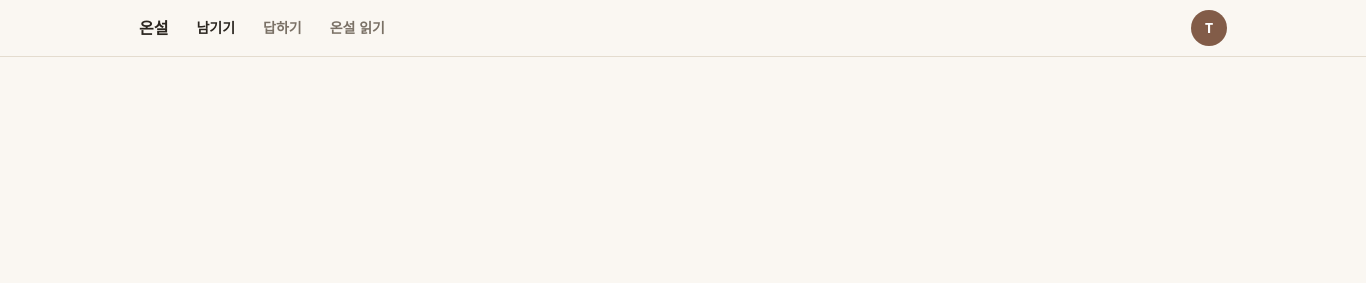
Test case: ServiceNav › opens the profile menu with the full email, account links, and logout
This screenshot has width=1366, height=283.
Click the button named "프로필 메뉴" at (1209, 28), box [1191, 10, 1227, 46]
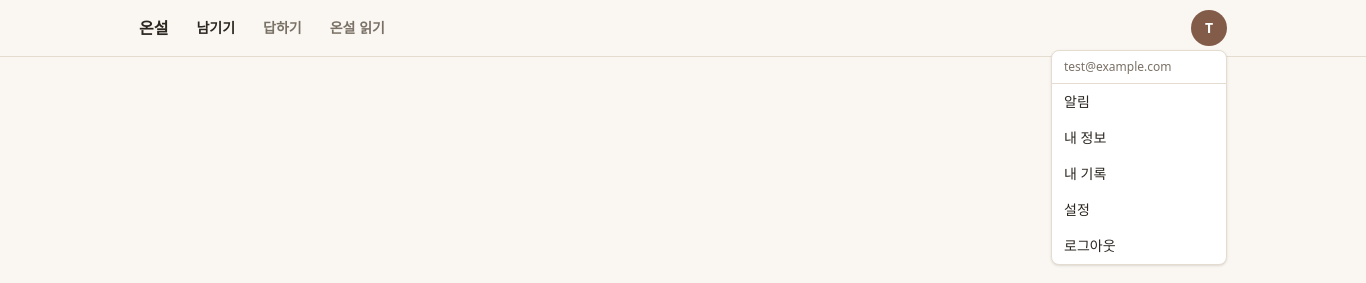
Now the text "test@example.com" is shown, box [1052, 51, 1226, 84]
Now the button "로그아웃" is shown, box [1052, 228, 1226, 264]
